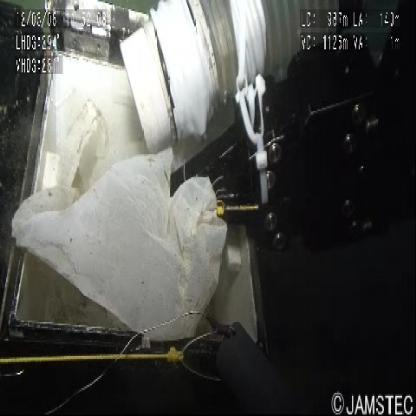Rov: (55, 1, 415, 298), (1, 2, 46, 131)
Rác: (12, 90, 238, 374)
